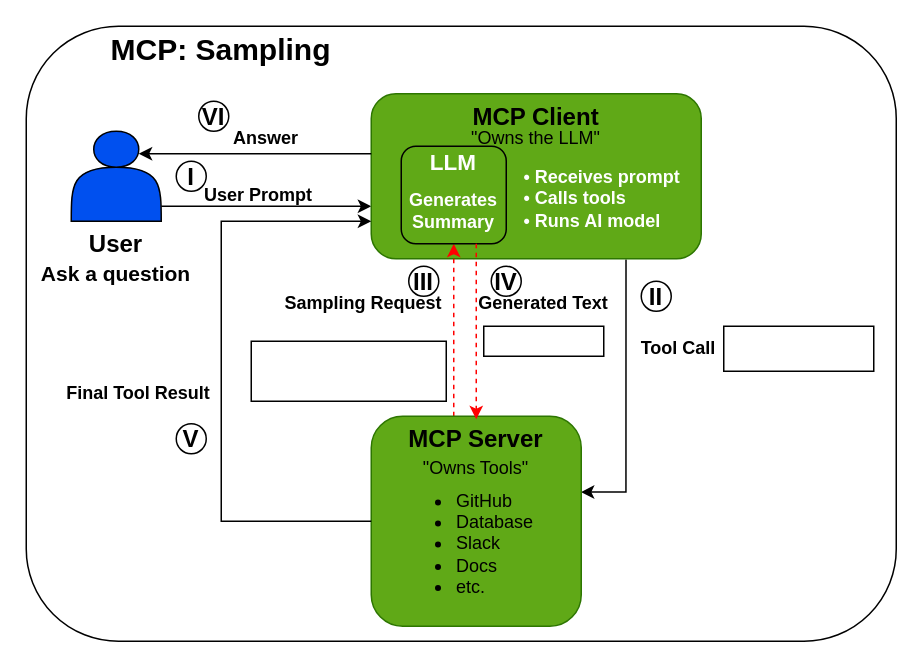
Image size: 923x668. Some labels were removed from this diagram. Each missing label, with the centre of its shape:
"Please summarize these 500 comments": point (348, 370)
Example: Read GitHub Issue: point (798, 348)
Issue Summary: point (543, 340)
